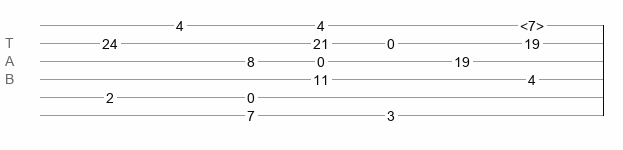0: (247, 90, 255, 100), (317, 54, 325, 64), (387, 36, 395, 46)
11: (313, 72, 329, 82)
19: (454, 54, 470, 64), (524, 36, 540, 46)
2: (106, 90, 114, 100)
21: (313, 36, 329, 46)
24: (102, 36, 118, 46)
3: (387, 108, 395, 118)
4: (176, 18, 184, 28), (317, 18, 325, 28), (528, 72, 536, 82)
7: (247, 108, 255, 118)
8: (247, 54, 255, 64)
harmonic: (520, 18, 544, 28)
